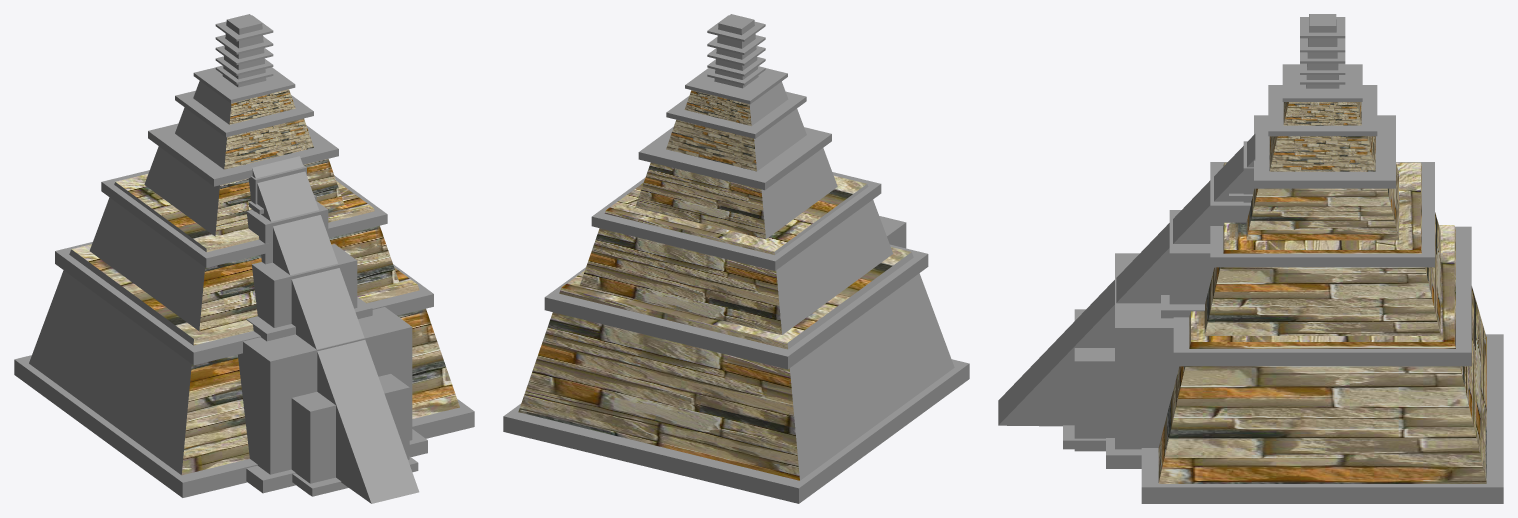
File: Pyramide.obj
The picture shows the model from 3 angles, left to right: view 1: azimuth 30°, elevation 25°; view 2: azimuth 150°, elevation 25°; view 3: azimuth 270°, elevation 25°; orthographic projection. The views are drawn at different scales.
Parts seen in each view (by area): view 1: Cube.000_Cube.002, Cube.027_Cube.001, Cube.001_Cube.003, Cube.006_Cube.008, Cube.019_Cube.000, Cube.002_Cube.028, Cube.011_Cube.013, Cube.010_Cube.012, Cube.003_Cube.030, Cube.012_Cube.014, Cube.013_Cube.015, Cube.007_Cube.009 (+9 smaller); view 2: Cube.000_Cube.002, Cube.001_Cube.003, Cube.019_Cube.000, Cube.002_Cube.028, Cube.011_Cube.013, Cube.012_Cube.014, Cube.003_Cube.030, Cube.013_Cube.015, Cube.004_Cube.031, Cube.014_Cube.016, Cube.015_Cube.017, Cube.005_Cube.007 (+1 smaller); view 3: Cube.000_Cube.002, Cube.001_Cube.003, Cube.027_Cube.001, Cube.019_Cube.000, Cube.006_Cube.008, Cube.002_Cube.028, Cube.011_Cube.013, Cube.012_Cube.014, Cube.013_Cube.015, Cube.010_Cube.012, Cube.003_Cube.030, Cube.007_Cube.009 (+9 smaller).
Boxes of the visible parts, bbox=[...] form: Cube.000_Cube.002: bbox=[29, 244, 459, 475]; Cube.027_Cube.001: bbox=[252, 156, 419, 503]; Cube.001_Cube.003: bbox=[89, 174, 399, 331]; Cube.006_Cube.008: bbox=[238, 307, 412, 474]; Cube.019_Cube.000: bbox=[14, 355, 474, 497]; Cube.002_Cube.028: bbox=[144, 146, 344, 236]; Cube.011_Cube.013: bbox=[55, 242, 433, 365]; Cube.010_Cube.012: bbox=[291, 374, 409, 494]; Cube.003_Cube.030: bbox=[175, 107, 313, 169]; Cube.012_Cube.014: bbox=[101, 170, 387, 267]; Cube.013_Cube.015: bbox=[148, 123, 338, 186]; Cube.007_Cube.009: bbox=[252, 244, 357, 327]; Cube.000_Cube.002: bbox=[518, 247, 954, 480]; Cube.001_Cube.003: bbox=[579, 175, 893, 334]; Cube.019_Cube.000: bbox=[503, 359, 969, 503]; Cube.002_Cube.028: bbox=[635, 148, 837, 239]; Cube.011_Cube.013: bbox=[544, 244, 928, 369]; Cube.012_Cube.014: bbox=[591, 172, 881, 270]; Cube.003_Cube.030: bbox=[666, 108, 806, 171]; Cube.013_Cube.015: bbox=[638, 126, 831, 190]; Cube.004_Cube.031: bbox=[684, 81, 788, 125]; Cube.014_Cube.016: bbox=[666, 91, 806, 138]; Cube.015_Cube.017: bbox=[685, 68, 787, 104]; Cube.005_Cube.007: bbox=[714, 14, 758, 88]; Cube.000_Cube.002: bbox=[1158, 225, 1486, 483]; Cube.001_Cube.003: bbox=[1204, 162, 1440, 335]; Cube.027_Cube.001: bbox=[998, 134, 1255, 426]; Cube.019_Cube.000: bbox=[1141, 334, 1503, 503]; Cube.006_Cube.008: bbox=[1115, 253, 1179, 449]; Cube.002_Cube.028: bbox=[1246, 163, 1398, 240]; Cube.011_Cube.013: bbox=[1173, 226, 1471, 366]; Cube.012_Cube.014: bbox=[1210, 162, 1434, 267]; Cube.013_Cube.015: bbox=[1254, 115, 1395, 188]; Cube.010_Cube.012: bbox=[1074, 309, 1114, 451]; Cube.003_Cube.030: bbox=[1269, 136, 1375, 171]; Cube.007_Cube.009: bbox=[1169, 210, 1214, 304].
Size of the model in its own units: 8.63 by 10.72 by 12.04.
7 materials, 5 textured.
